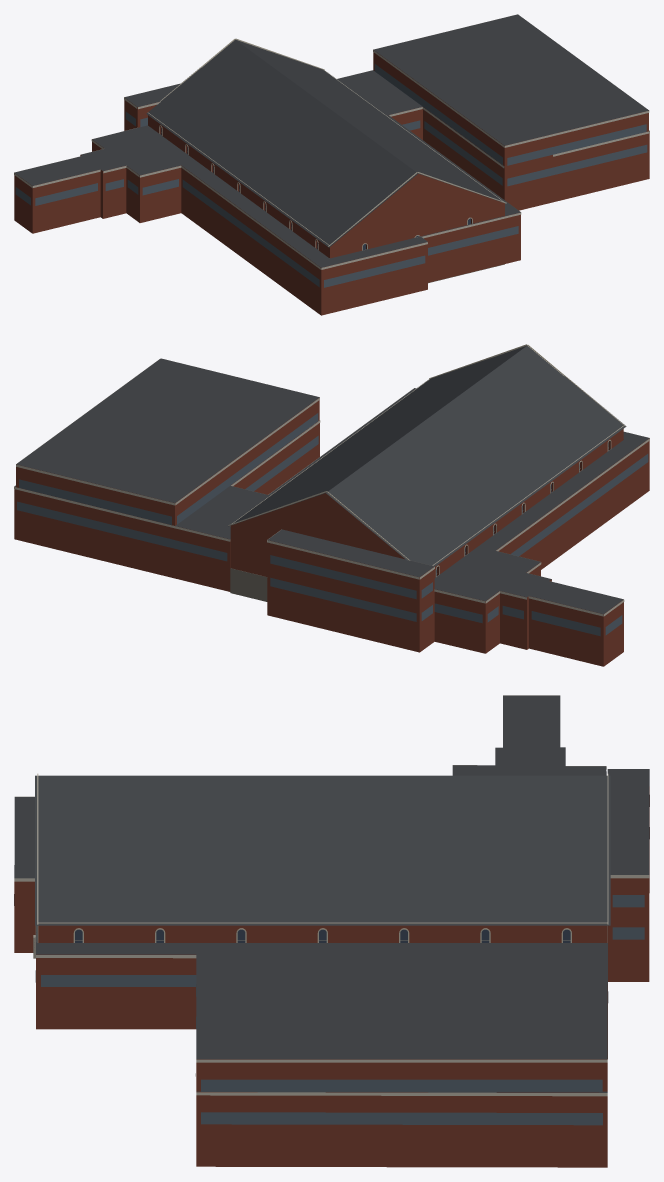
File: first-baptist-church-pleasant-valley-dr.glb
The picture shows the model from 3 angles, top to bottom: view 1: azimuth 30°, elevation 25°; view 2: azimuth 150°, elevation 25°; view 3: azimuth 270°, elevation 25°; orthographic projection. The views are drawn at different scales.
Parts seen in each view (by area): view 1: first_baptist_church_pleasant_valley_dr; view 2: first_baptist_church_pleasant_valley_dr; view 3: first_baptist_church_pleasant_valley_dr.
Boxes of the visible parts, <box> form: first_baptist_church_pleasant_valley_dr: <box>14,14,649,315</box>; first_baptist_church_pleasant_valley_dr: <box>14,344,649,666</box>; first_baptist_church_pleasant_valley_dr: <box>14,695,649,1167</box>.
Size of the model in its own units: 119 by 24.97 by 80.43.
